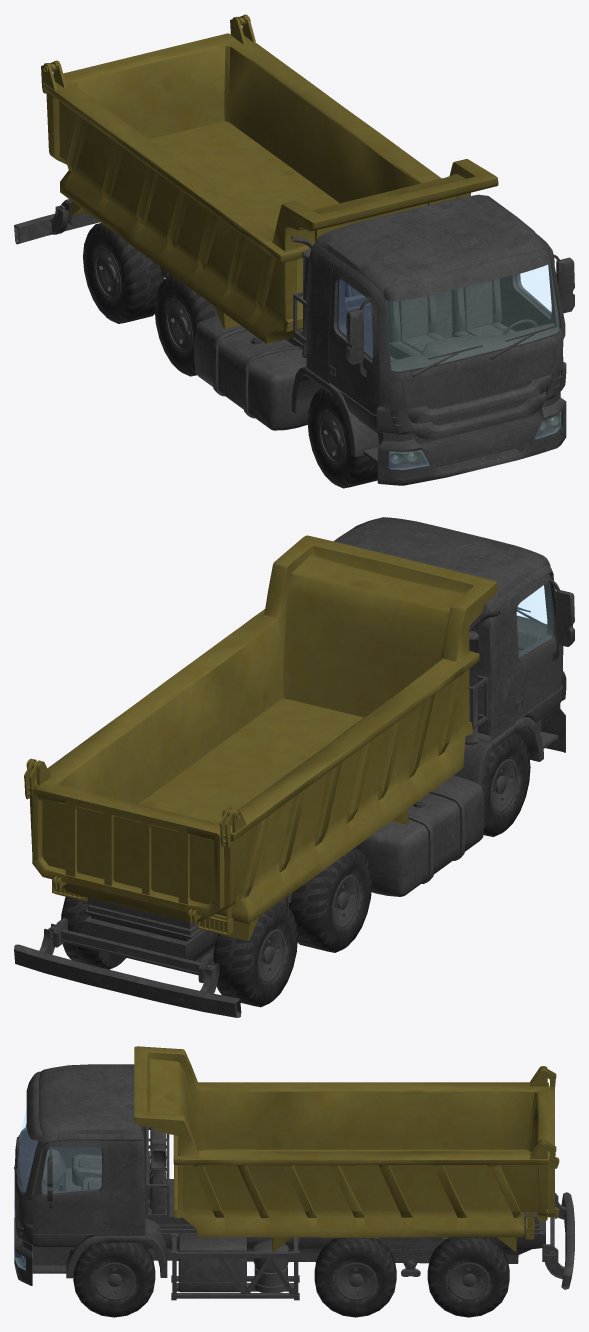
The model's file is camion_benne_8x4.glb.
3 renders of one model, top to bottom at view 1: azimuth 30°, elevation 25°; view 2: azimuth 150°, elevation 25°; view 3: azimuth 270°, elevation 25°, orthographic. The views are drawn at different scales.
Parts seen in each view (by area): view 1: dump_truck_01; view 2: dump_truck_01; view 3: dump_truck_01.
Part boxes in pixels (box(x1,y1,x2,y2)): dump_truck_01: box(14, 14, 574, 488); dump_truck_01: box(14, 517, 574, 1017); dump_truck_01: box(14, 1046, 574, 1317).
Bounding box in the file's own units: 2.18 × 2.3 × 5.82.
6 materials, 5 textured.
